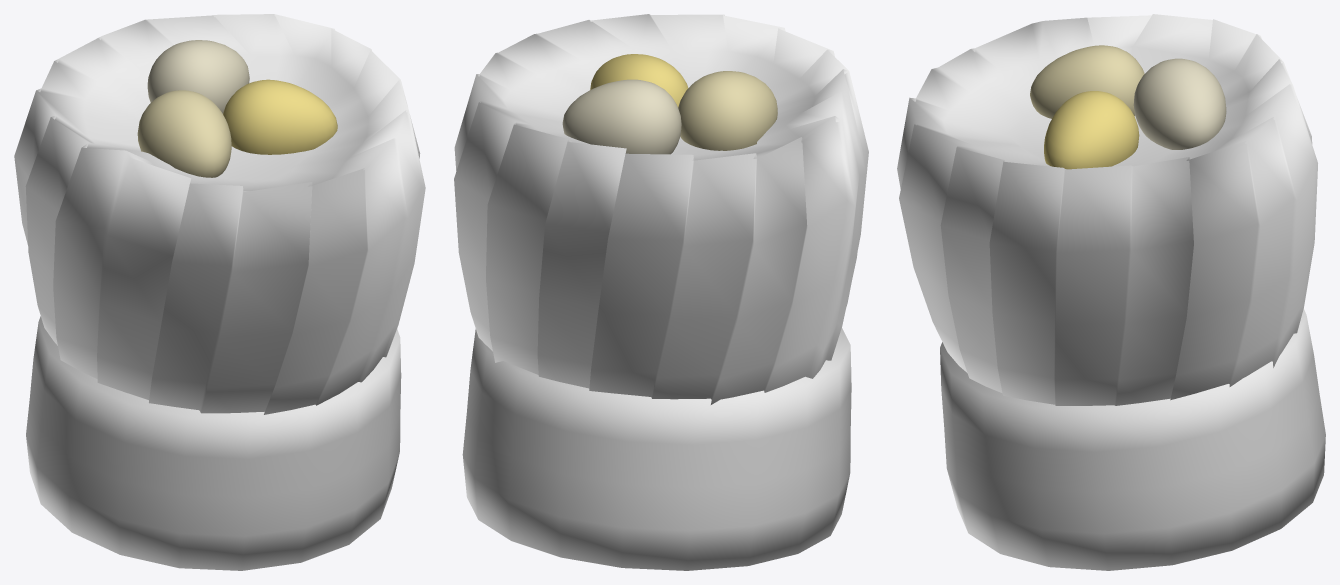
Rendered from model_chef.gltf.
3 views of the same model, side by side, from view 1: azimuth 30°, elevation 25°; view 2: azimuth 150°, elevation 25°; view 3: azimuth 270°, elevation 25° (orthographic). The views are drawn at different scales.
Parts seen in each view (by area): view 1: model_chef; view 2: model_chef; view 3: model_chef.
Part boxes in pixels (<box>): model_chef: <box>14,14,425,570</box>; model_chef: <box>454,14,868,570</box>; model_chef: <box>897,14,1325,570</box>.
Size of the model in its own units: 0.4777 by 0.5717 by 0.4995.
